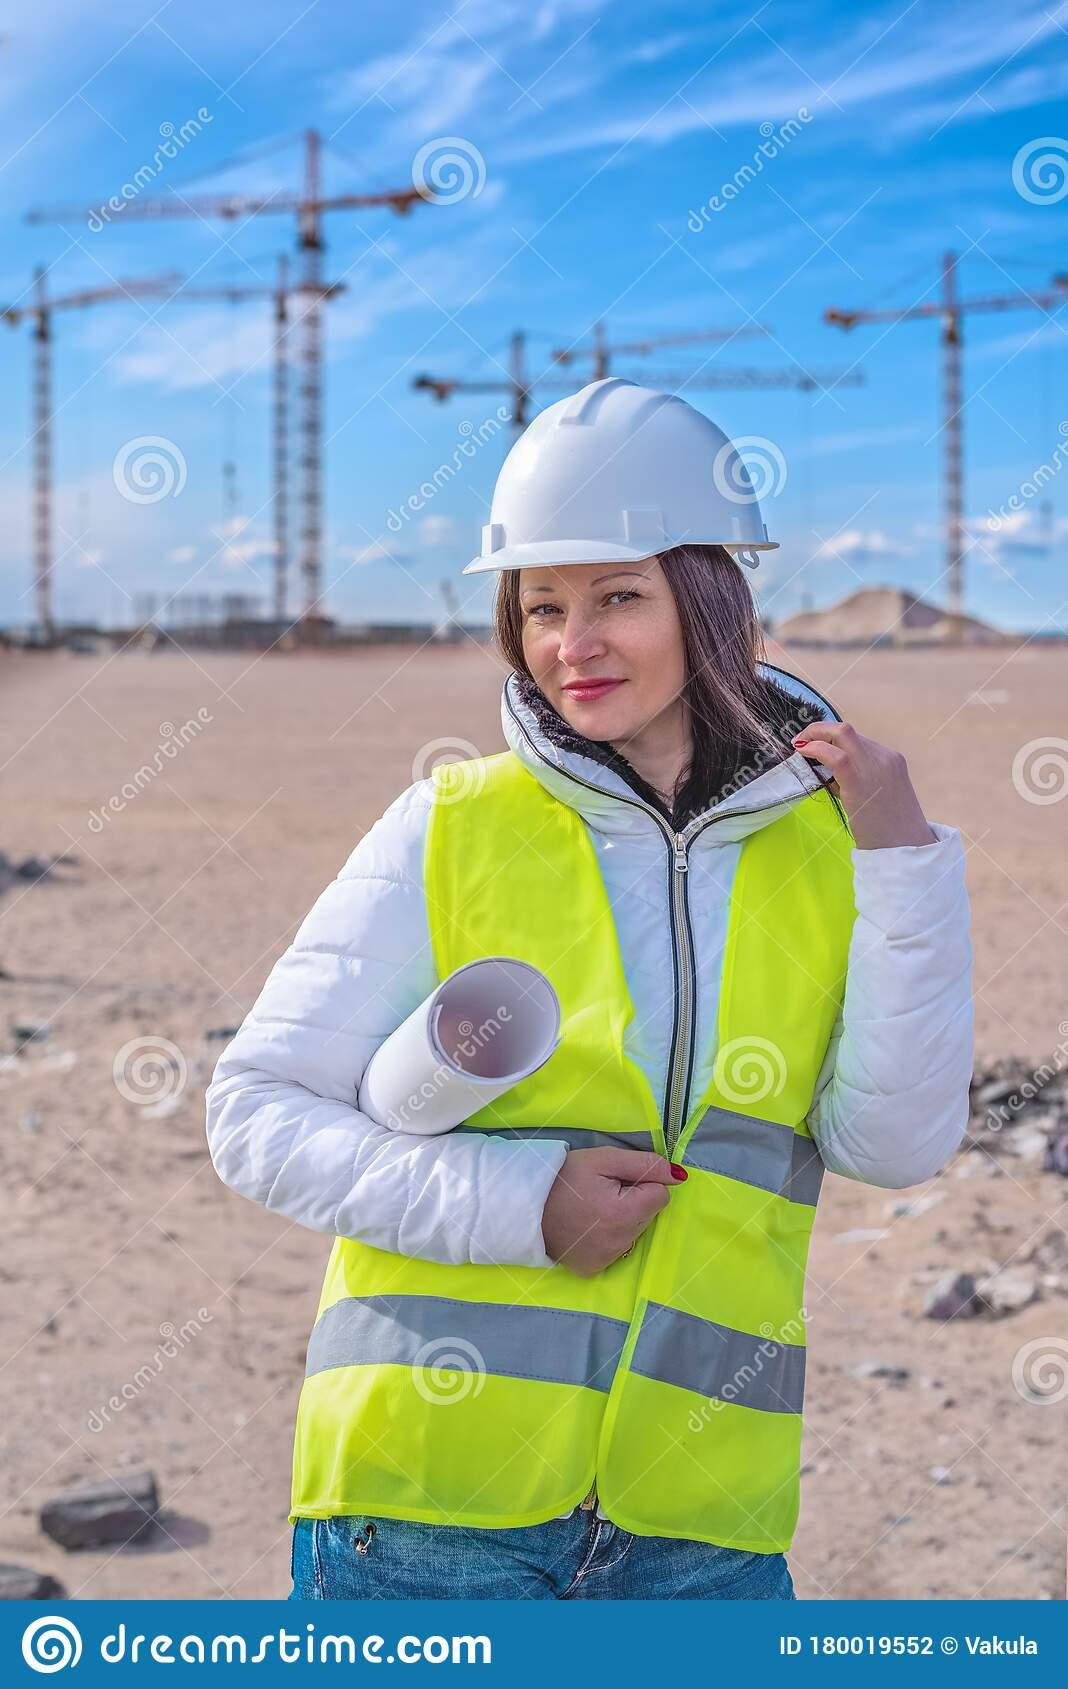hat: (406, 296, 811, 651)
vest: (331, 670, 911, 1561)
